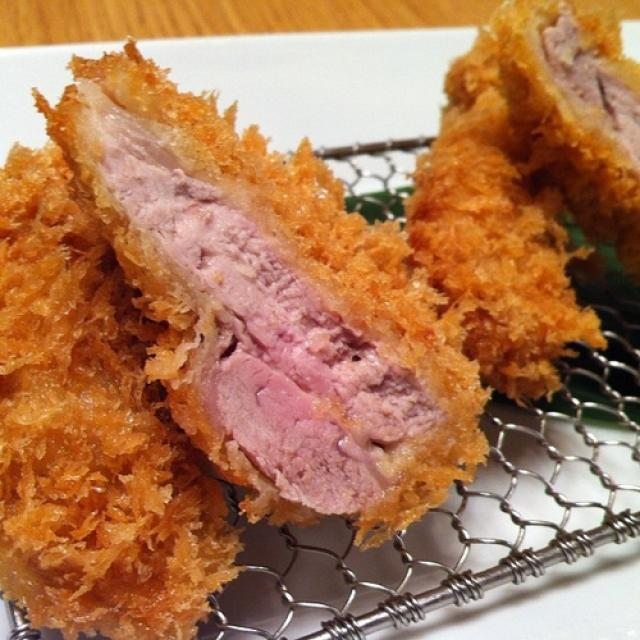牛肉菜式: (1, 21, 621, 616)
